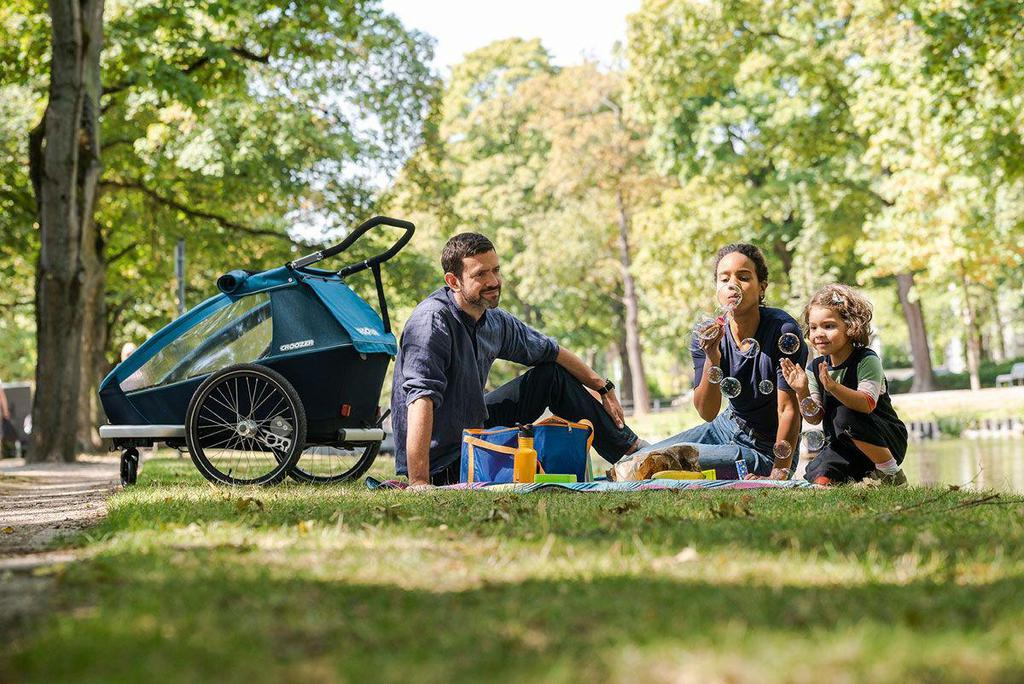child: (779, 287, 919, 492)
